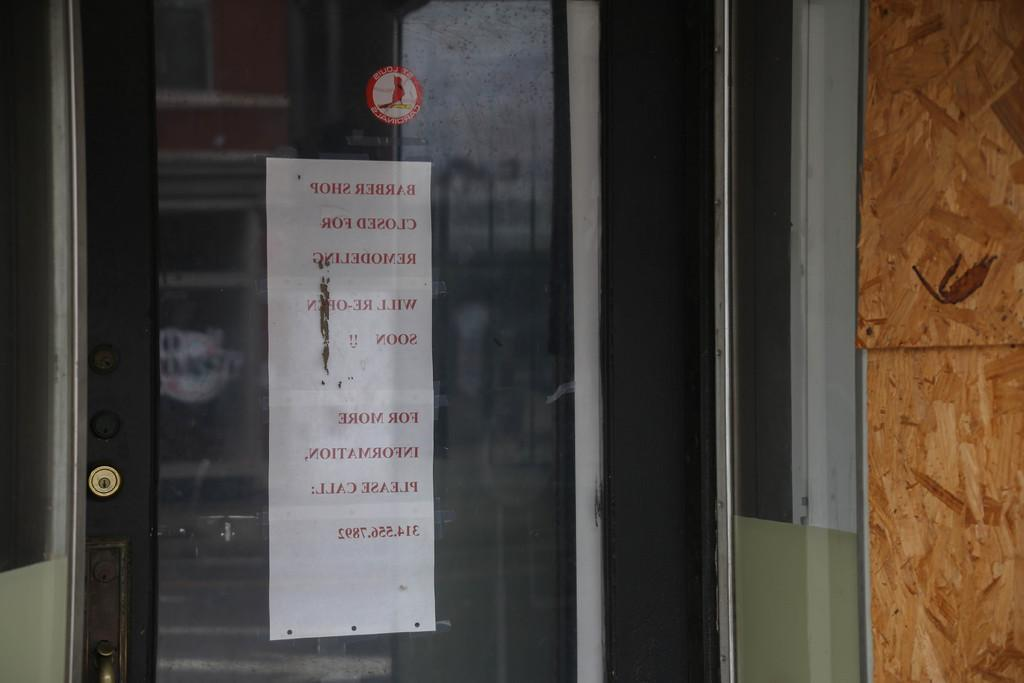door: (92, 15, 586, 683)
handle: (96, 635, 126, 683)
